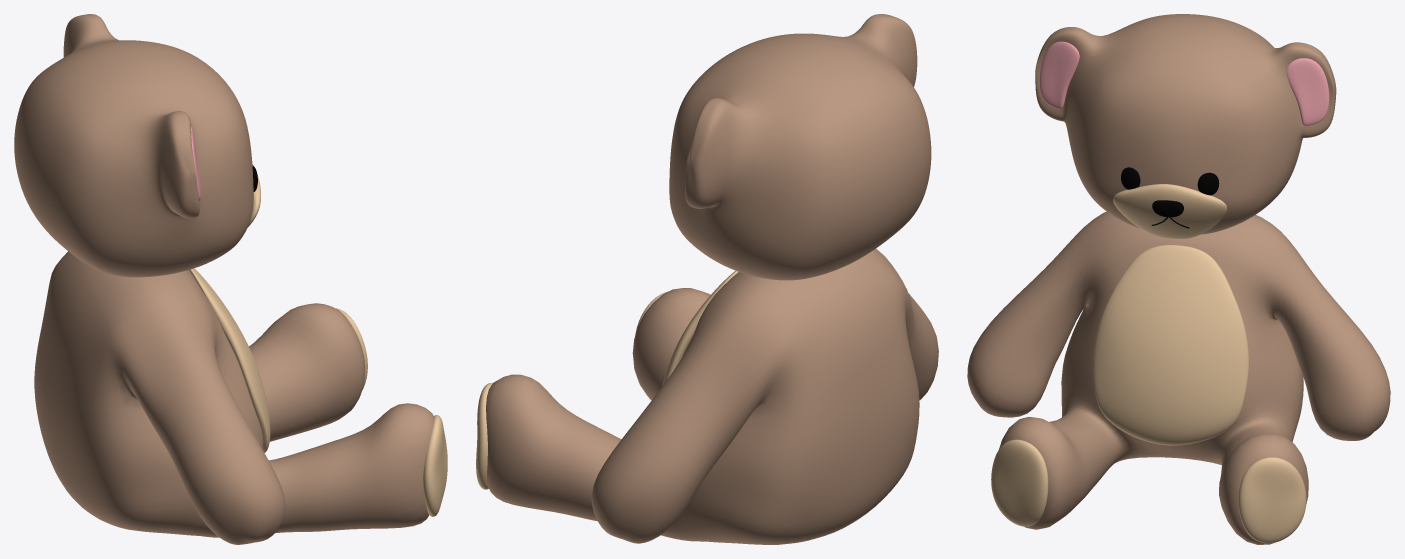
Rendered from teddy_bear.glb.
The picture shows the model from 3 angles, left to right: view 1: azimuth 30°, elevation 25°; view 2: azimuth 150°, elevation 25°; view 3: azimuth 270°, elevation 25°; orthographic projection. The views are drawn at different scales.
Visible parts, largest first — view 1: Cube.071, Cube.070, Cube.073, Cube.078; view 2: Cube.071, Cube.070, Cube.078, Cube.073; view 3: Cube.071, Cube.070, Cube.073, Cube.078, Cube.072, Cube.074.
Part boxes in pixels (x1,y1,x2,y2): Cube.071: (34, 251, 433, 544); Cube.070: (14, 14, 253, 277); Cube.073: (188, 268, 270, 452); Cube.078: (336, 308, 447, 516); Cube.071: (486, 249, 938, 544); Cube.070: (669, 14, 931, 280); Cube.078: (476, 291, 667, 489); Cube.073: (662, 270, 738, 386); Cube.071: (967, 211, 1390, 544); Cube.070: (1035, 14, 1336, 234); Cube.073: (1093, 245, 1249, 445); Cube.078: (991, 439, 1306, 543); Cube.072: (1113, 184, 1226, 239); Cube.074: (1039, 41, 1329, 125).
Bounding box in the file's own units: 0.2112 × 0.2503 × 0.2319.
